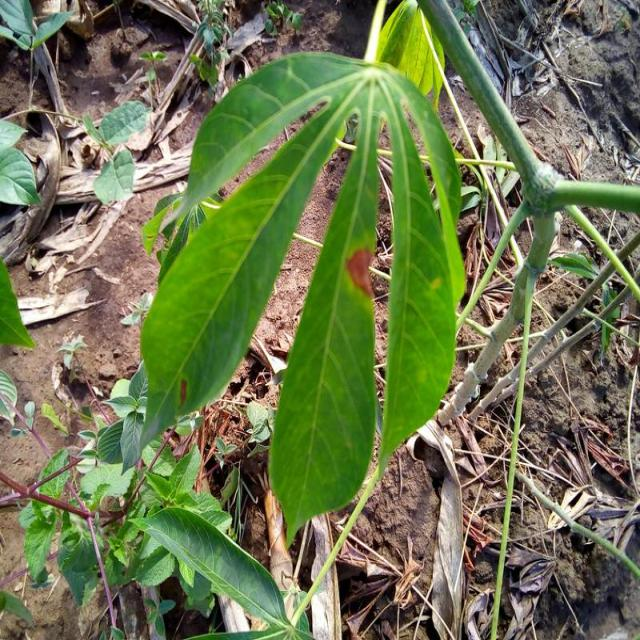cassava leaf: (128, 17, 465, 548)
